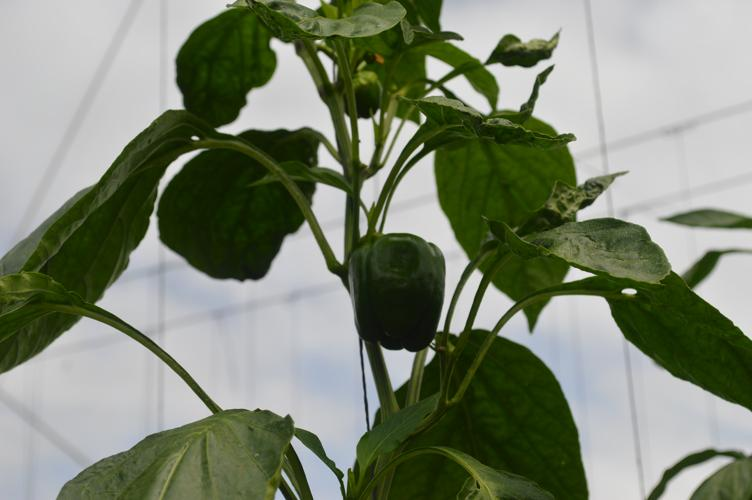BellPepper: (341, 233, 444, 357)
